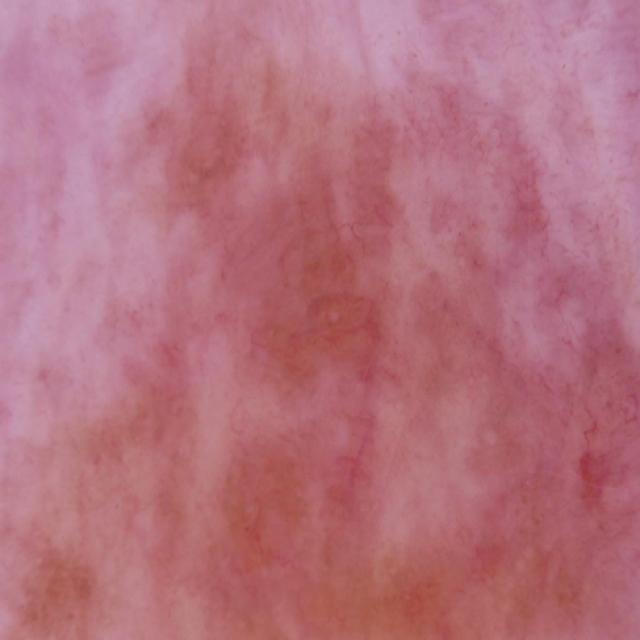Keratosis: (0, 148, 394, 640), (351, 67, 640, 542)
